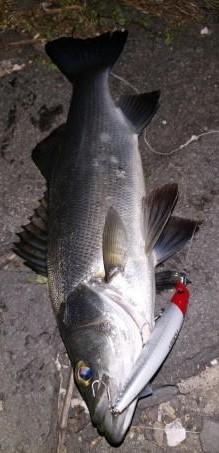fish: (10, 32, 195, 450)
